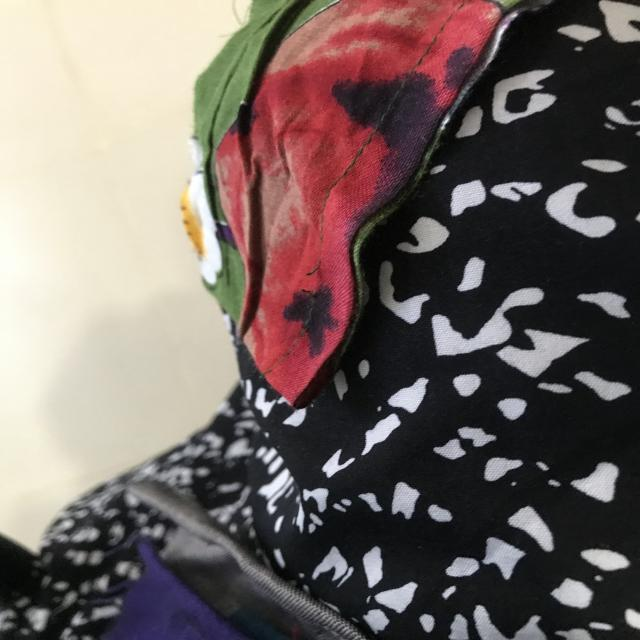broken: (299, 256, 335, 309)
